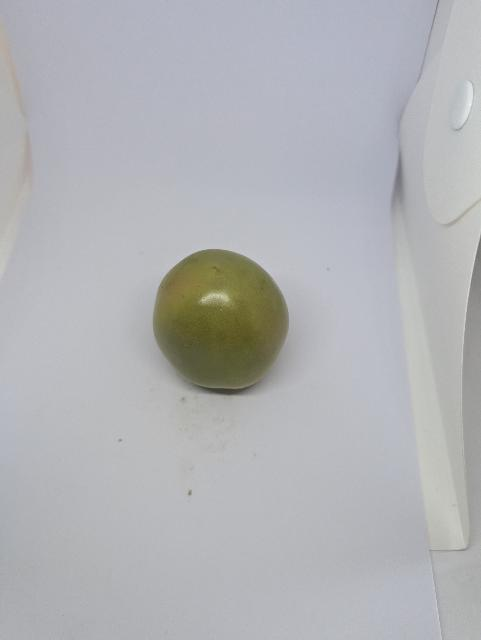green: (151, 238, 308, 414)
